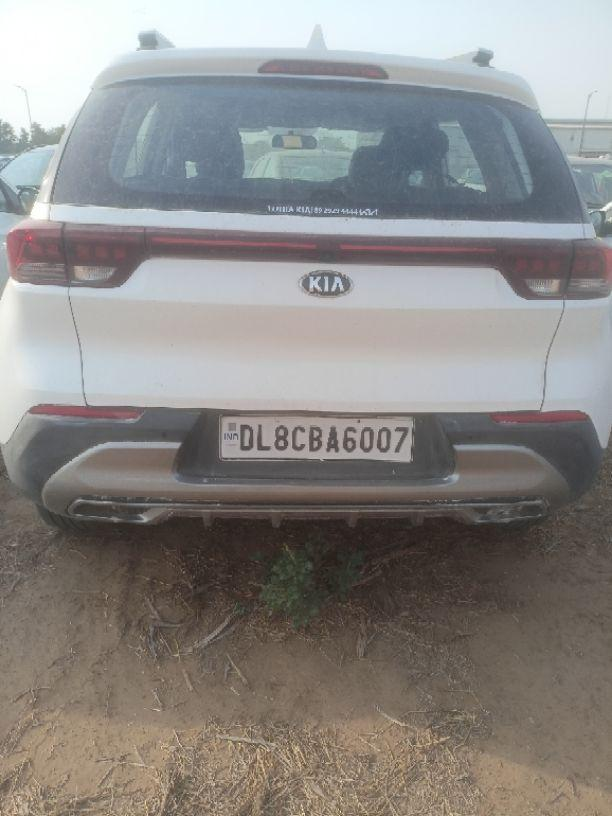license_plate: (216, 412, 415, 463)
